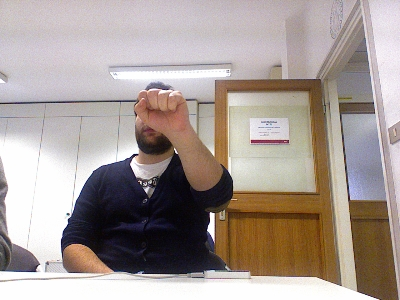石头: (133, 87, 189, 135)
